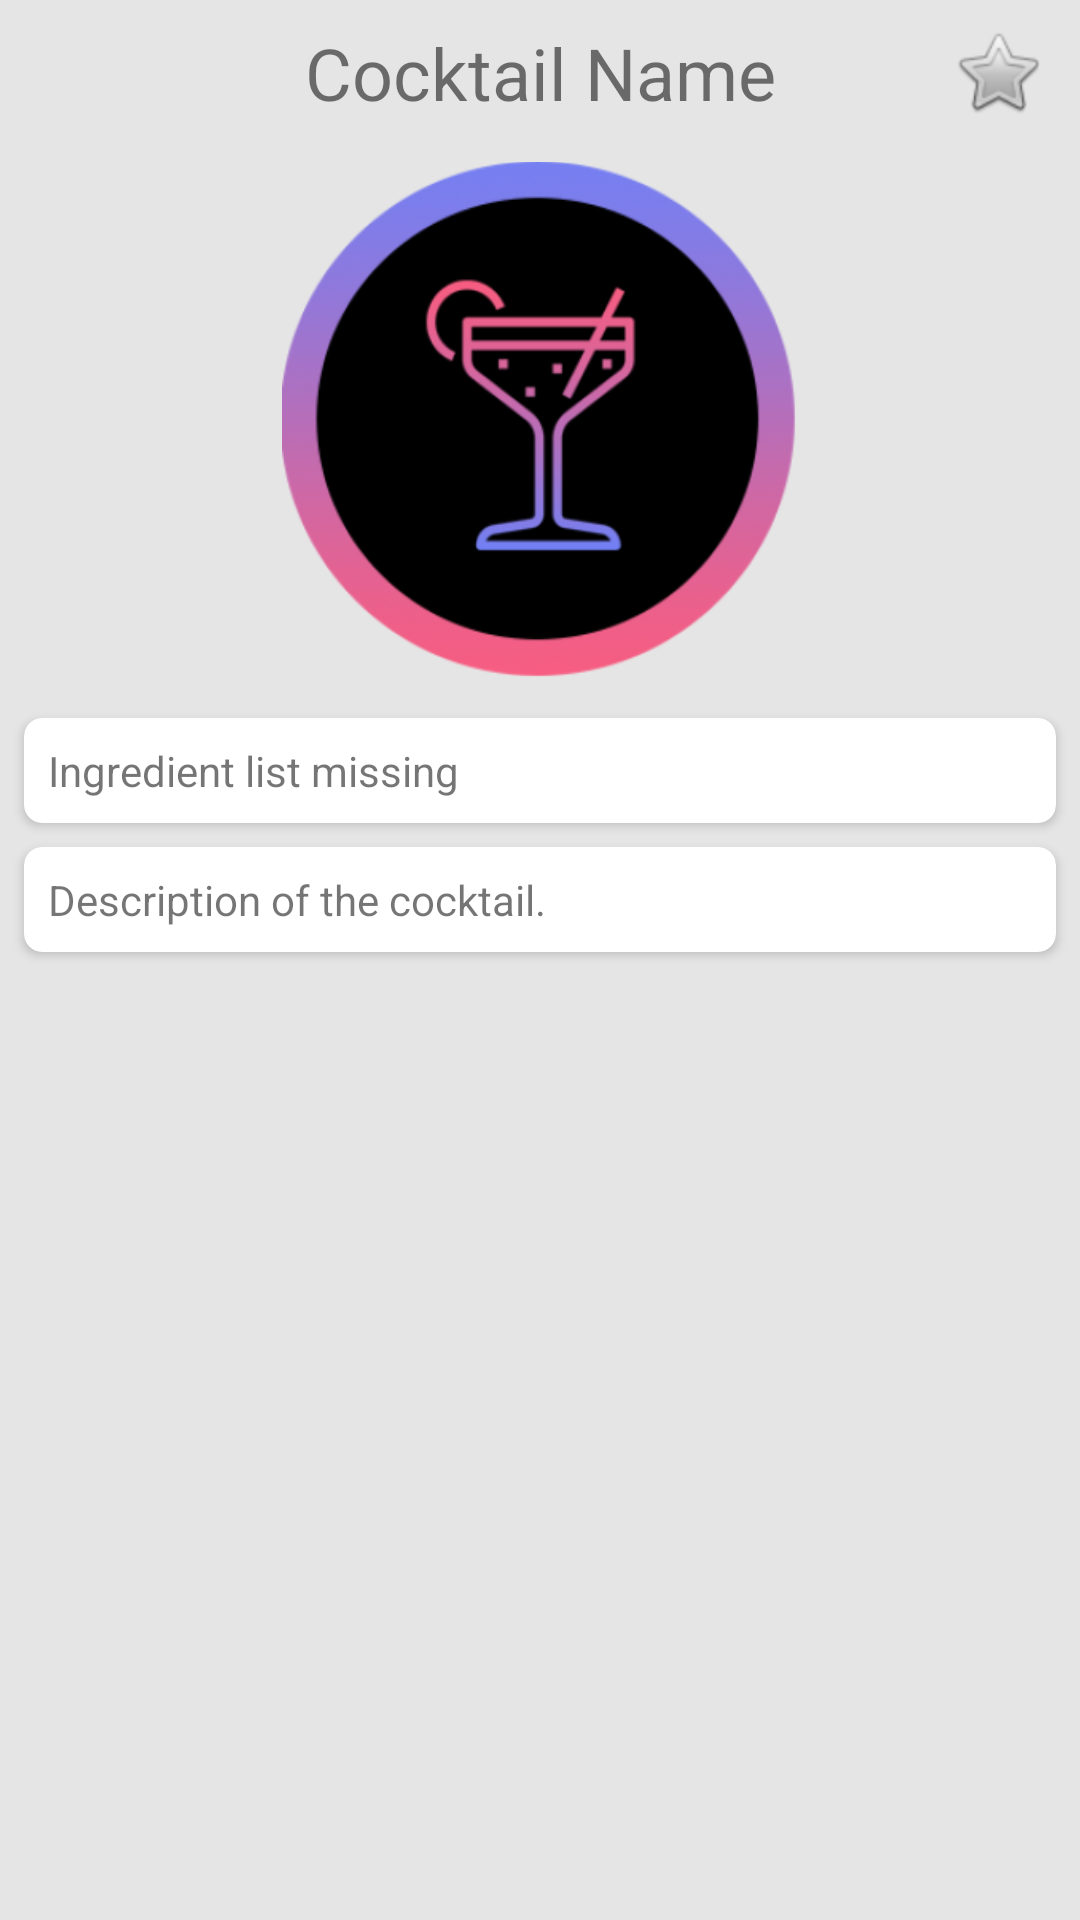

Locate icon controls on the screen. Image size 1080 × 1920, boxes as (x1, y1, x2, y2).
star: (959, 34, 1039, 112)
